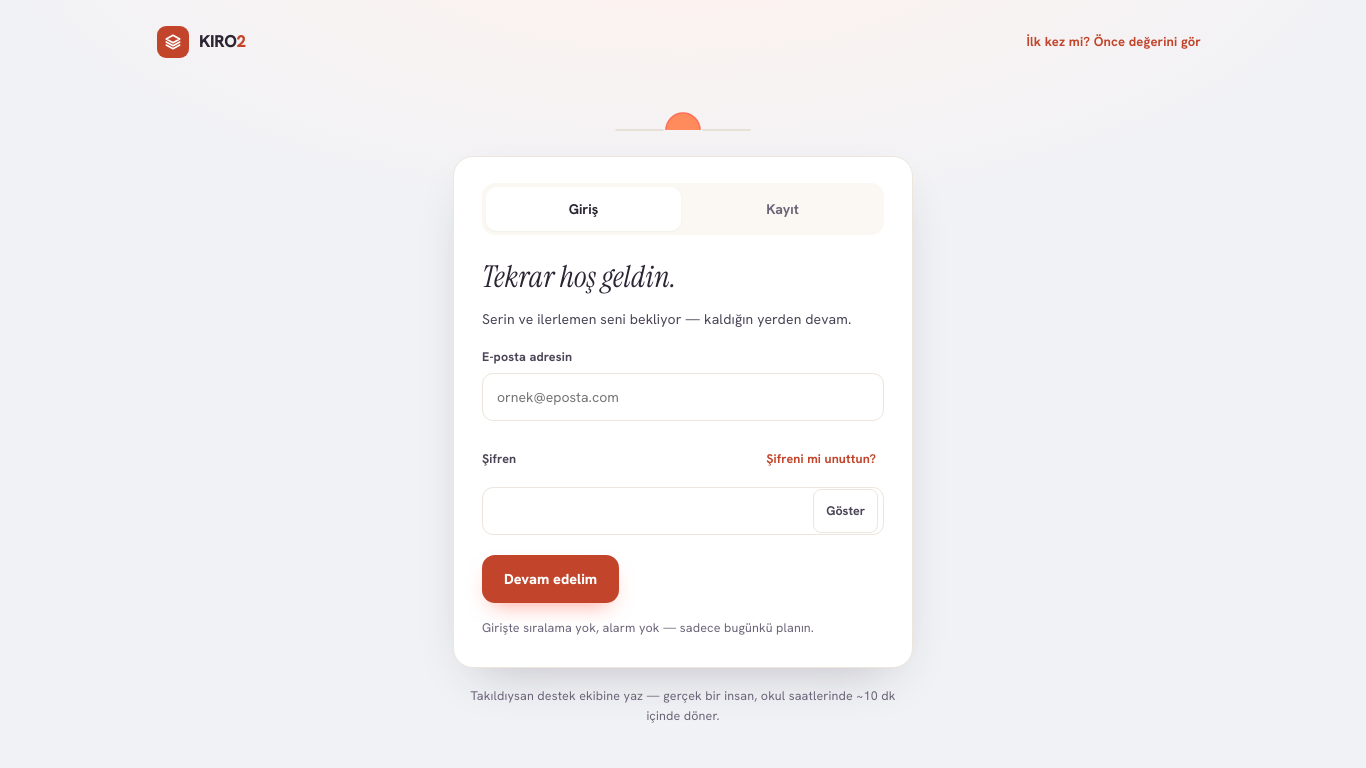
Test: GirisPage — doğrulanmamış e-posta kurtarma yolu › sunucunun GERÇEK sebebi gösterilir, sabit metin DEĞİL
Type "ogrenci@ornek.com" into the field labelled "E-posta adresin".
click(683, 397); type("ogrenci@ornek.com")  # box [482,373,884,421]
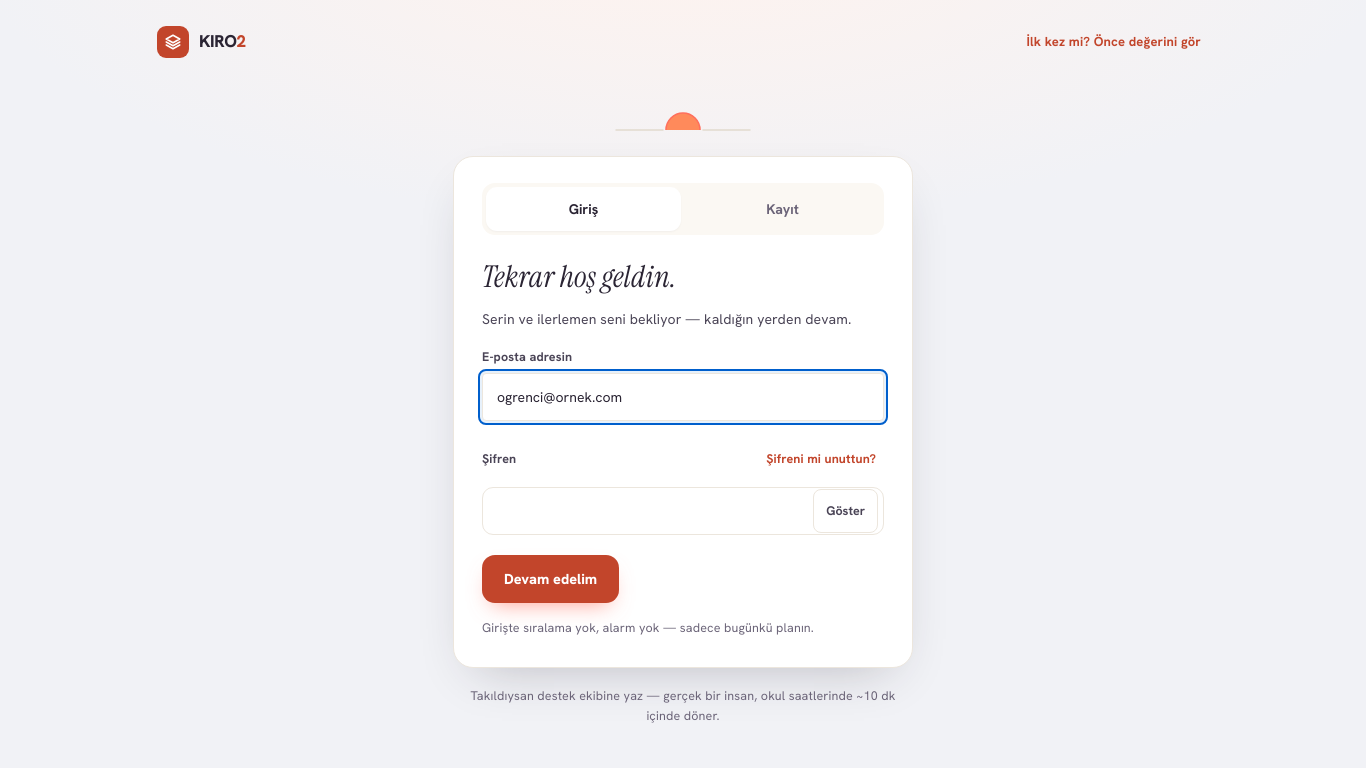
Type "Zq7#Kv2!Rm9x" into the password field labelled "Şifren".
click(683, 511); type("Zq7#Kv2!Rm9x")  # box [482,487,884,535]
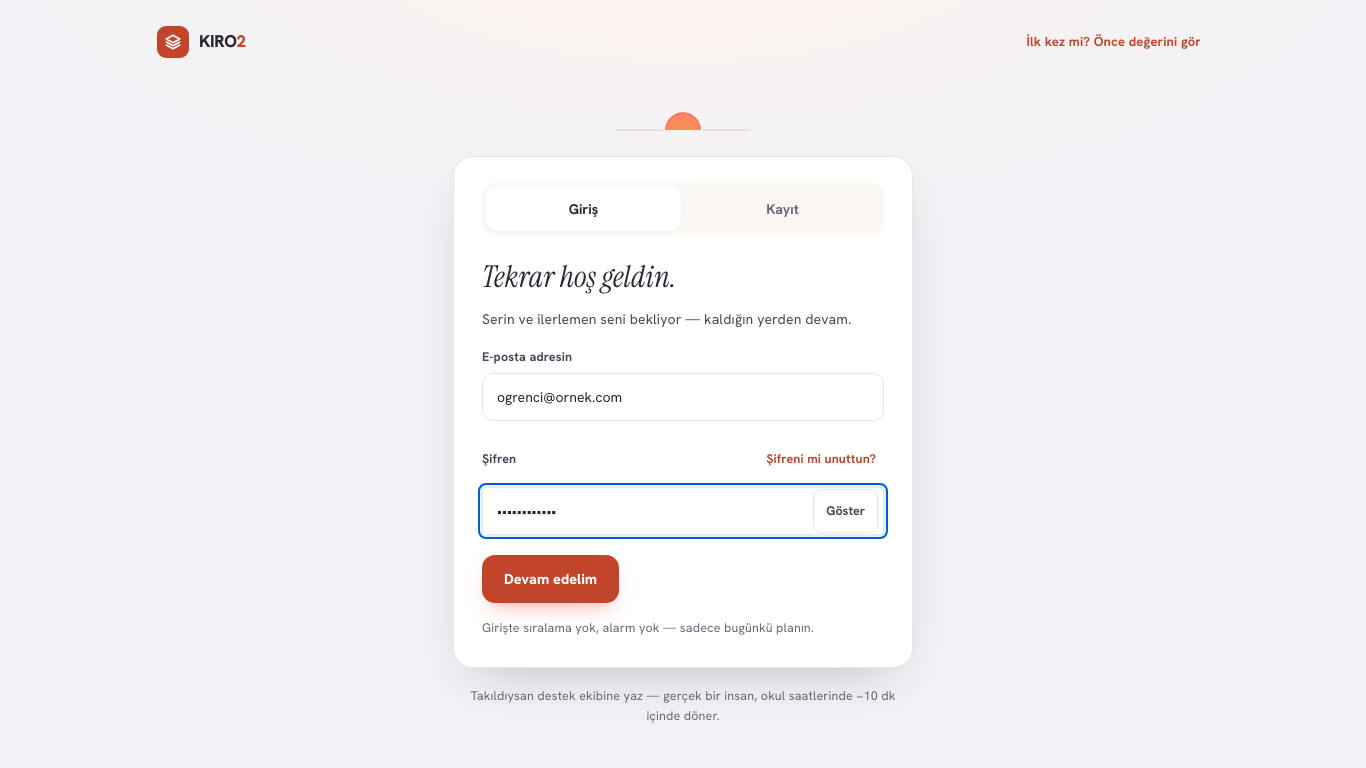
Click the button "Devam edelim".
click(551, 579)  # box [482,555,619,603]
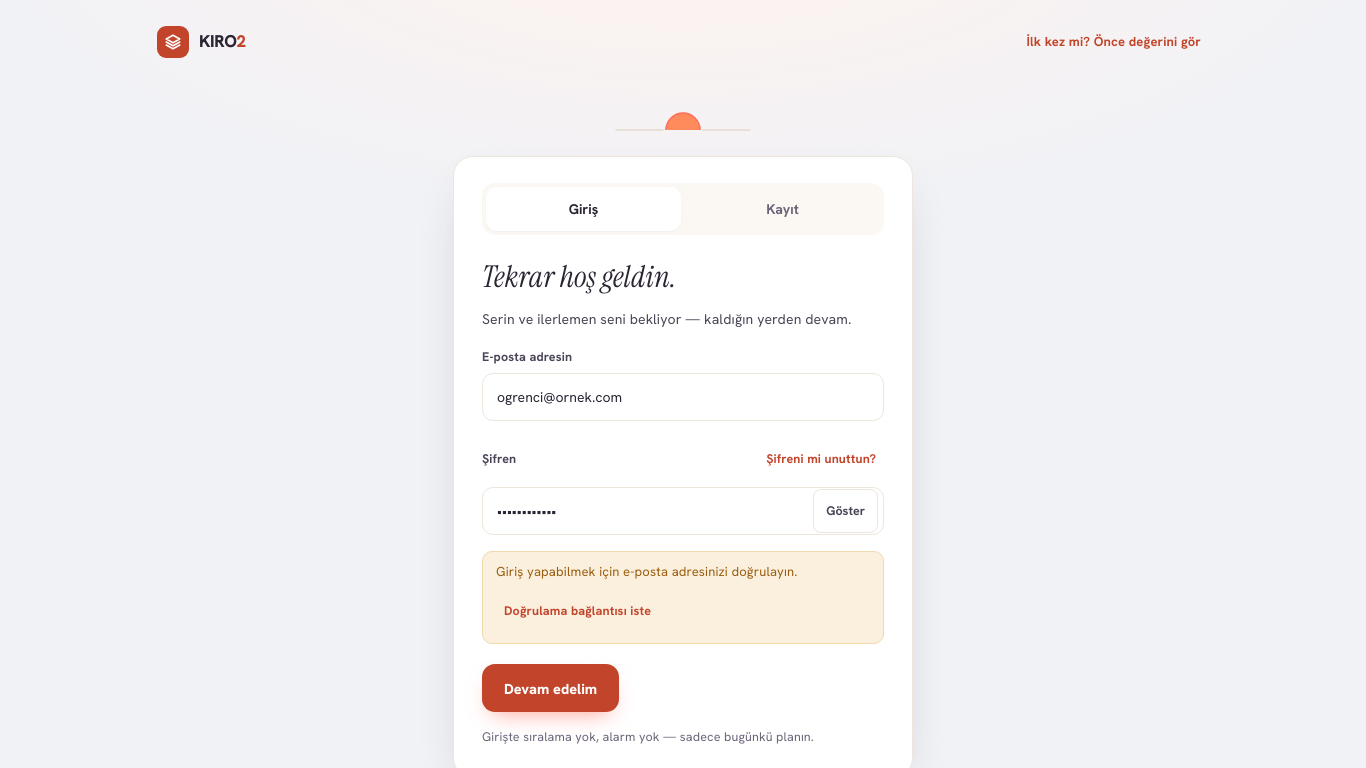
expect the text "Giriş yapabilmek için e-posta adresinizi doğrulayın." is shown: met, box [496,563,798,580]
